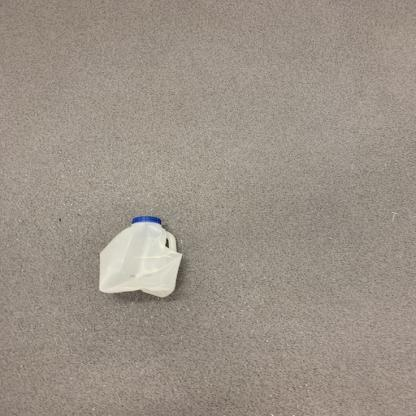trash: (96, 215, 192, 301)
